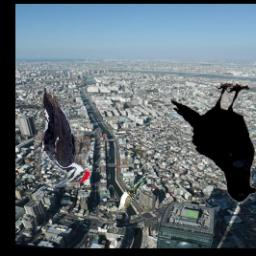Crow: (168, 83, 256, 204)
Cuckoo: (115, 166, 152, 213)
Woodpecker: (34, 88, 91, 188)
